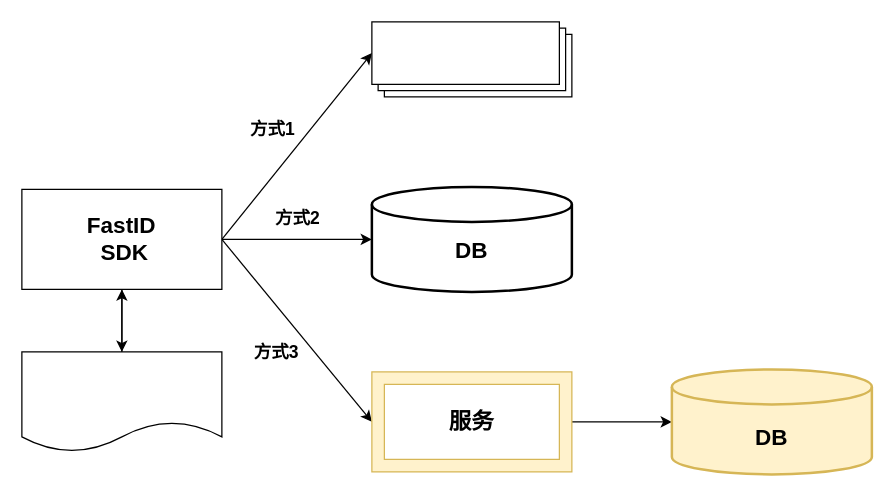
The diagram is 895 pixels wide and 498 high, and some of its shapes have lost their labels. The centre of each missing label's shape, as x and y in pixels:
"ZK" belongs at point 471,59.
"本地文件" belongs at point 121,401.
